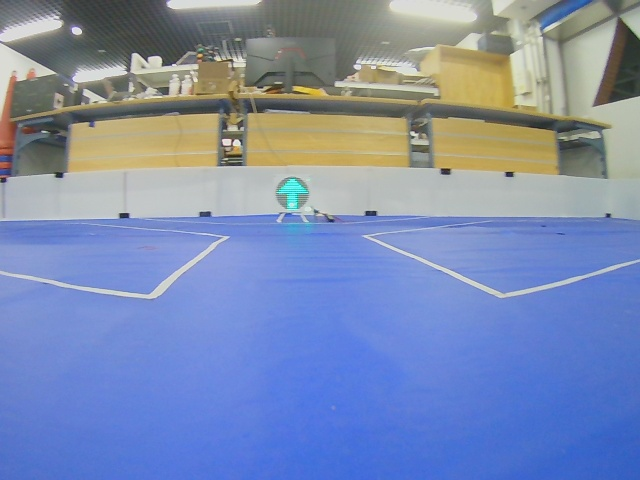straight_green: (275, 177, 309, 211)
